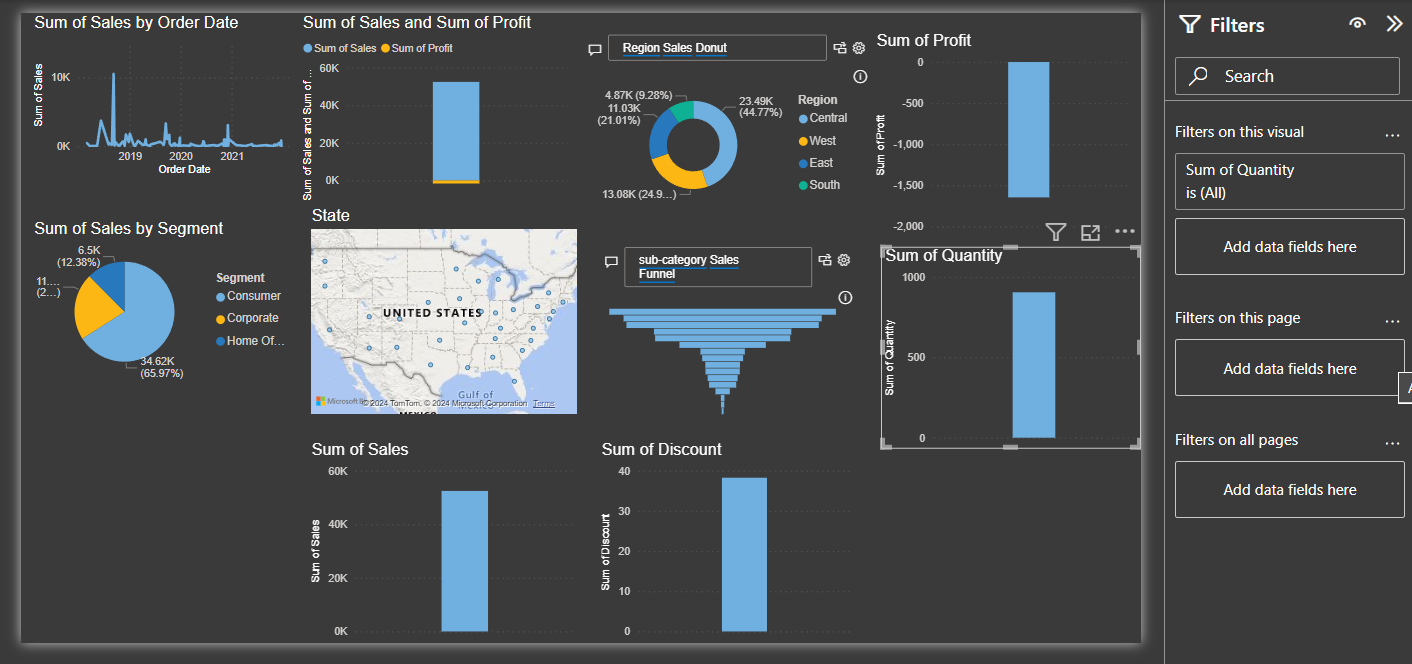

What the dashboard file says about the page in this screenshot:
{"tool":"powerbi","page":{"name":"Page 1","canvas":[1280,720],"ordinal":0},"visuals":[{"type":"lineChart","fields":{"Category":["Sheet1.Order Date"],"Y":["Sum(Sheet1.Sales)"]},"box":[10,0,307,191],"z":0},{"type":"pieChart","fields":{"Category":["Sheet1.Segment"],"Y":["Sum(Sheet1.Sales)"]},"box":[10,235.7,307.1,484.3],"z":1000},{"type":"columnChart","fields":{"Y":["Sum(Sheet1.Sales)","Sum(Sheet1.Profit)"]},"box":[317,0,313,219],"z":2000},{"type":"map","fields":{"Category":["Sheet1.State"]},"box":[316.1,219.6,312.5,241.3],"z":3000},{"type":"qnaVisual","box":[640,0,332.9,235.7],"z":4000},{"type":"qnaVisual","box":[658.6,242.9,297.1,235.7],"z":5000},{"type":"clusteredColumnChart","fields":{"Y":["Sum(Sheet1.Profit)"]},"box":[972.9,21.4,297.1,235.7],"z":6000},{"type":"clusteredColumnChart","fields":{"Y":["Sum(Sheet1.Quantity)"]},"box":[982.9,267.1,297.1,231.4],"z":7000},{"type":"clusteredColumnChart","fields":{"Y":["Sum(Sheet1.Discount)"]},"box":[658.6,488.6,621.4,231.4],"z":8000},{"type":"clusteredColumnChart","fields":{"Y":["Sum(Sheet1.Sales)"]},"box":[327.1,488.6,312.9,231.4],"z":9000}]}

Visuals, with their boxes in screenshot pixels (x1, y1, x2, y2):
lineChart - Sheet1.Order Date x Sum(Sheet1.Sales): box(35, 11, 304, 179)
pieChart - Sheet1.Segment x Sum(Sheet1.Sales): box(35, 218, 305, 644)
columnChart - Sum(Sheet1.Sales) x Sum(Sheet1.Profit): box(304, 11, 580, 204)
map - Sheet1.State: box(304, 204, 578, 416)
qnaVisual: box(588, 11, 881, 218)
qnaVisual: box(605, 225, 866, 432)
clusteredColumnChart - Sum(Sheet1.Profit): box(881, 30, 1142, 237)
clusteredColumnChart - Sum(Sheet1.Quantity): box(890, 246, 1151, 449)
clusteredColumnChart - Sum(Sheet1.Discount): box(605, 441, 1151, 644)
clusteredColumnChart - Sum(Sheet1.Sales): box(313, 441, 588, 644)
